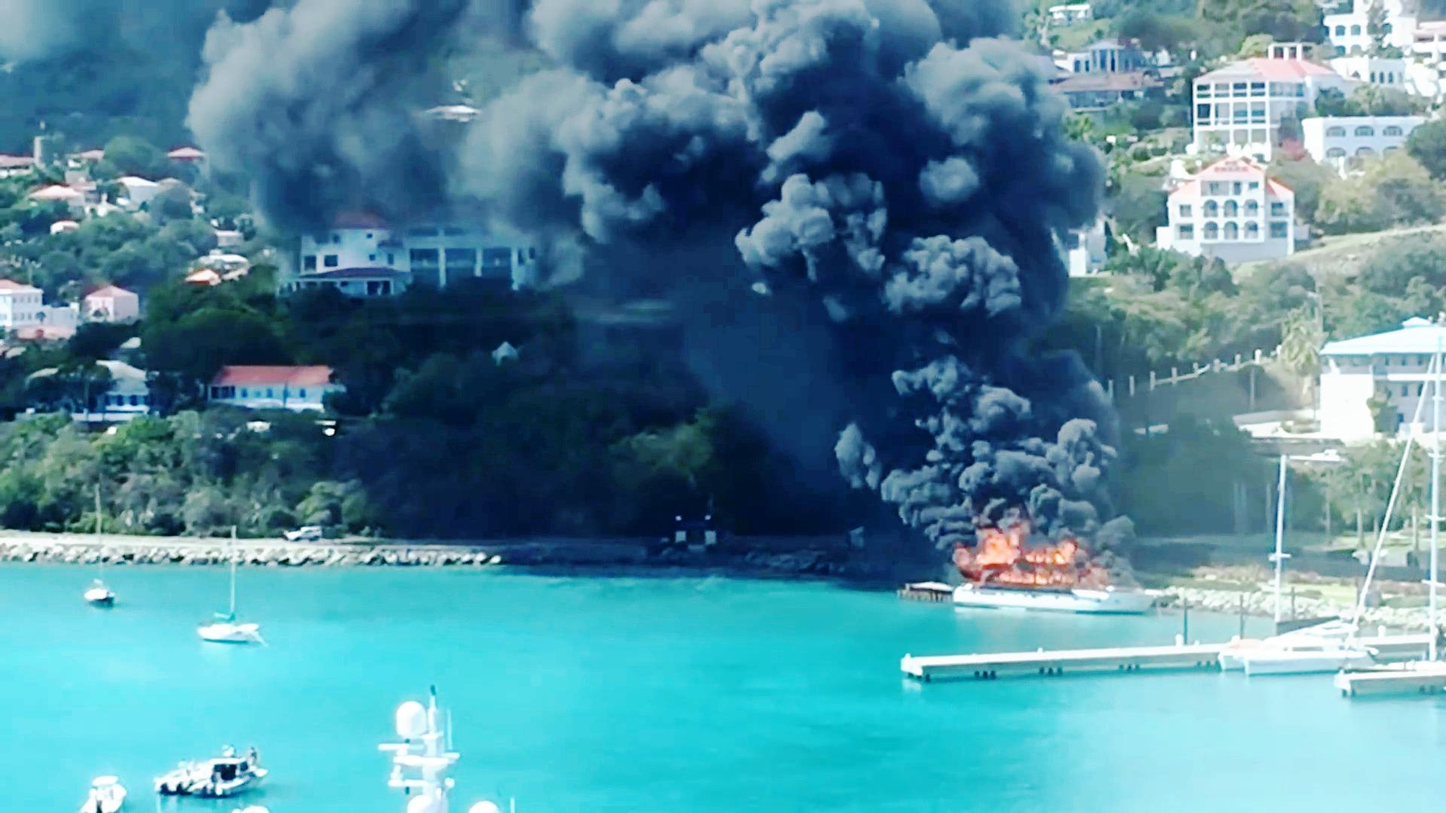fire: (981, 531, 1102, 599)
smoke: (719, 44, 1005, 390)
